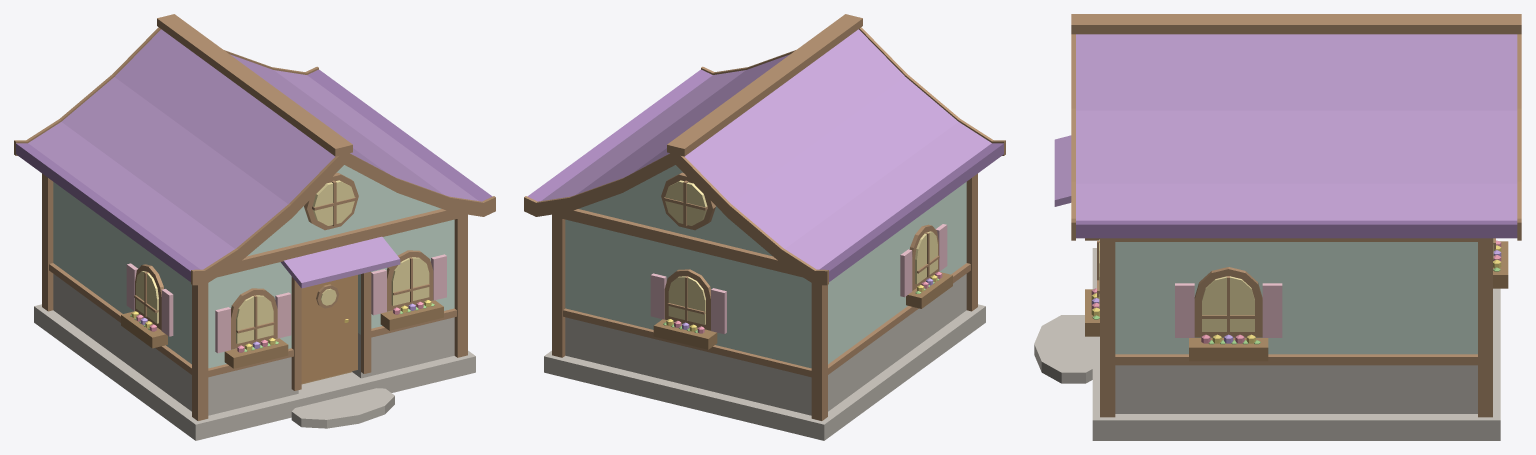
Rendered from inn_mint.glb.
3 renders of one model, left to right at view 1: azimuth 30°, elevation 25°; view 2: azimuth 150°, elevation 25°; view 3: azimuth 270°, elevation 25°, orthographic. The views are drawn at different scales.
Parts seen in each view (by area): view 1: Player; view 2: Player; view 3: Player.
Boxes of the visible parts, box(x1,y1,x2,y2) form: Player: box(14, 14, 495, 440); Player: box(524, 14, 1005, 440); Player: box(1034, 14, 1521, 440).
Size of the model in its own units: 5.84 by 4.9 by 6.45.
